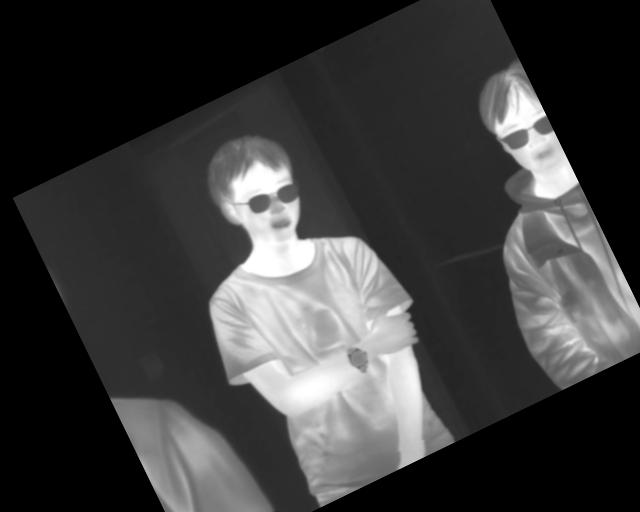face: (194, 119, 321, 260), (463, 57, 567, 186)
